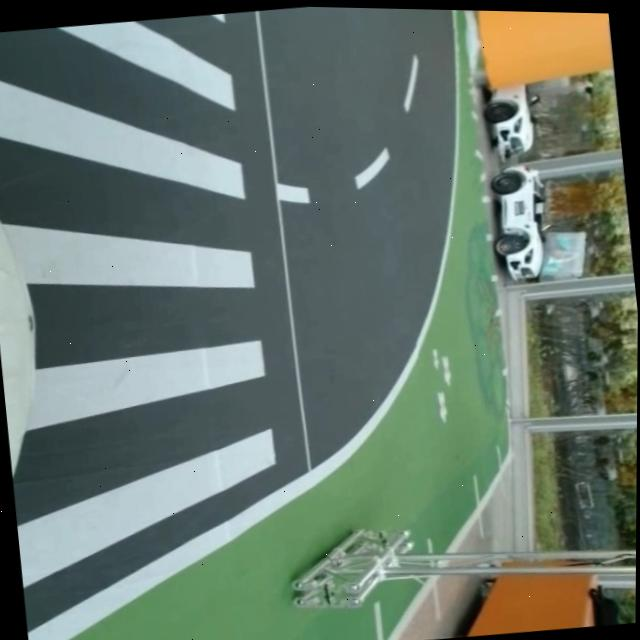traffic-light: (600, 13, 637, 291)
